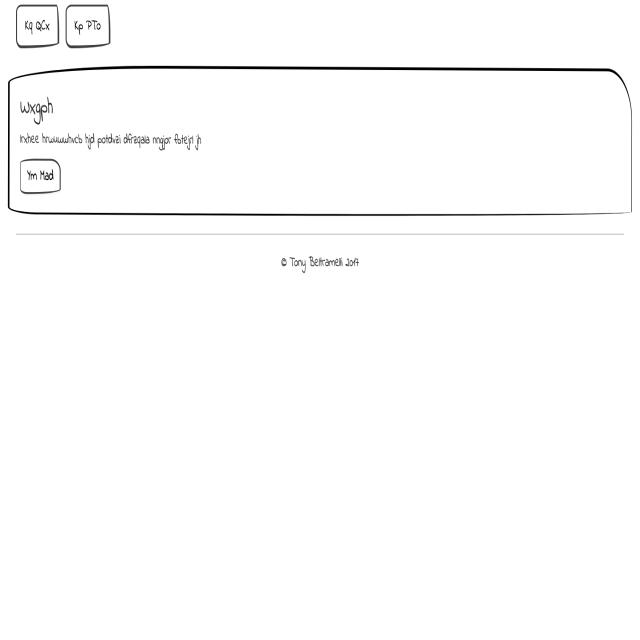Button: (18, 154, 66, 200)
Card: (5, 65, 637, 221)
Footer: (0, 227, 640, 637)
Heading 6: (16, 92, 59, 125)
Navigation Bar: (10, 2, 119, 54)
Paragraph: (16, 126, 209, 153)
